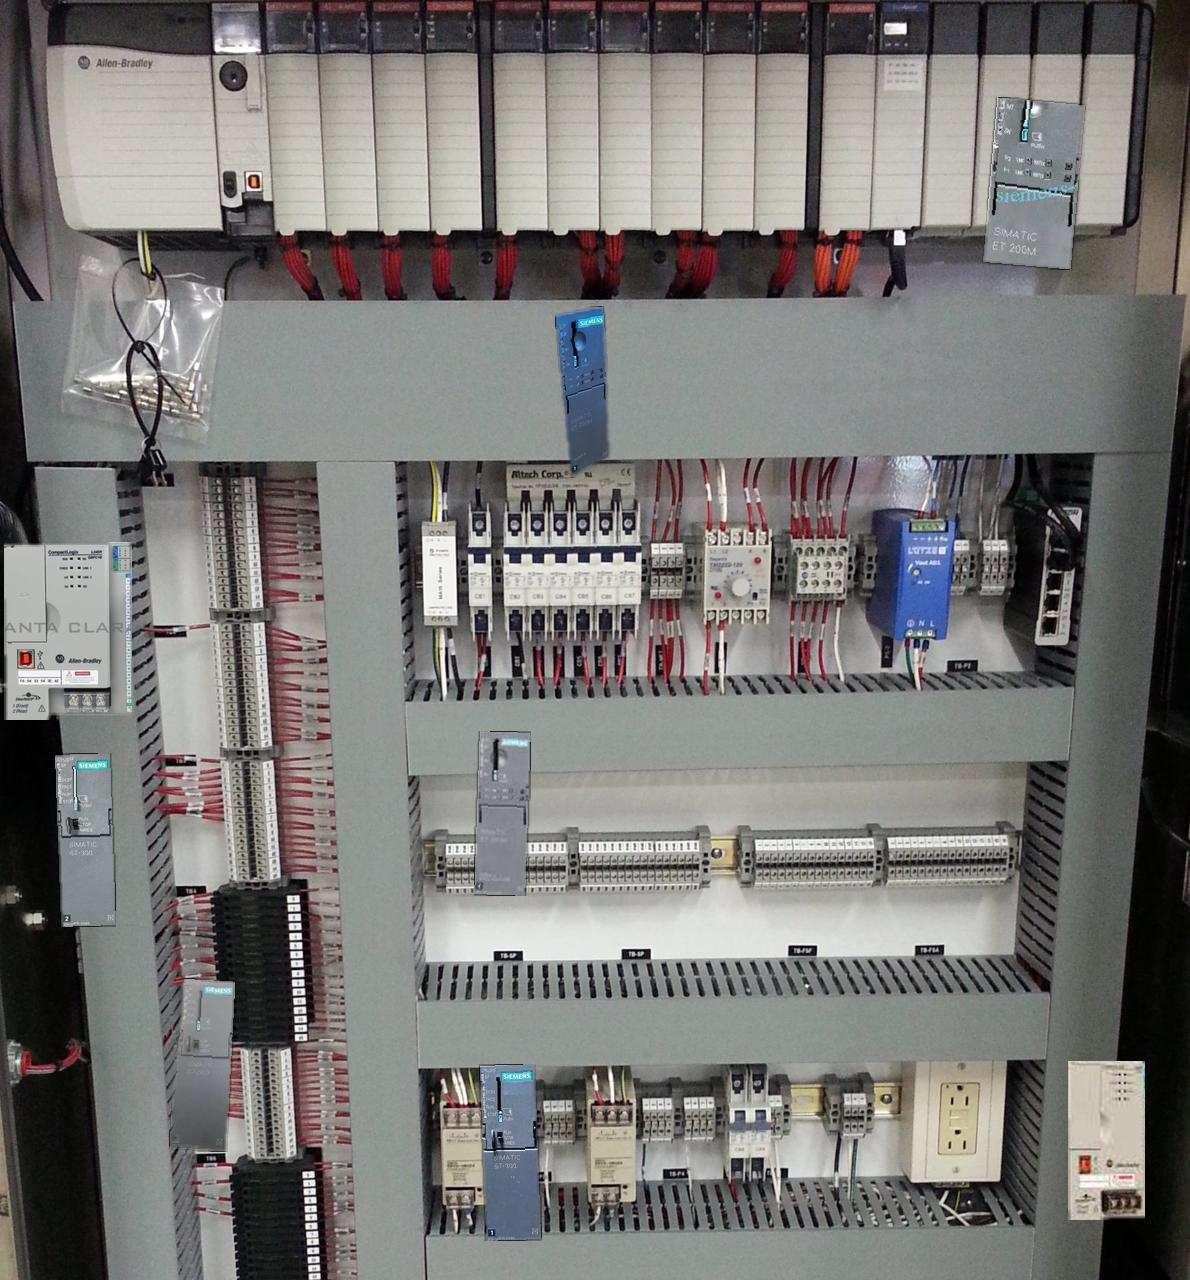AllenBradley: (4, 542, 131, 719), (1068, 1061, 1144, 1219)
Siemens: (170, 979, 234, 1150), (480, 1064, 540, 1240), (55, 753, 115, 926)
